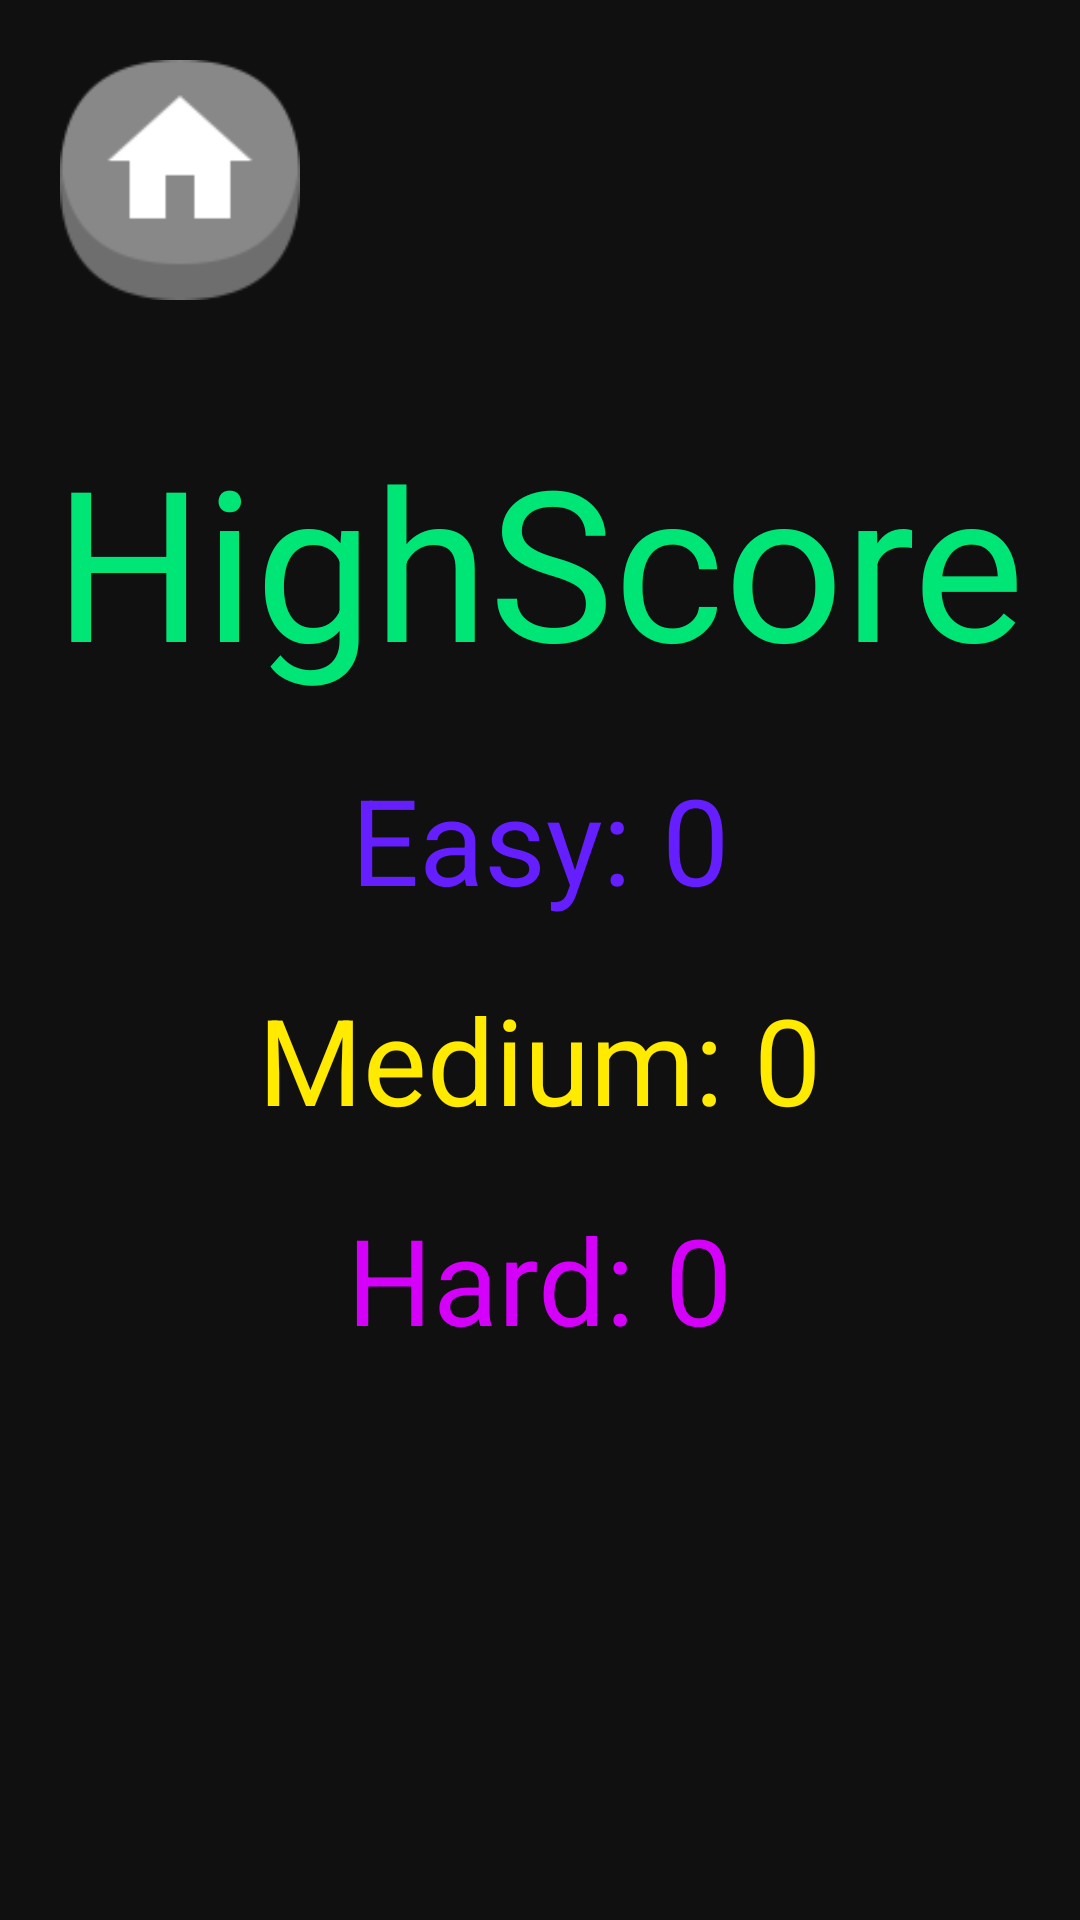

Screen size 1080x1920. Icon name, then its box in pixels as rect(x1, y1, x2, y2):
home: rect(60, 60, 300, 300)
